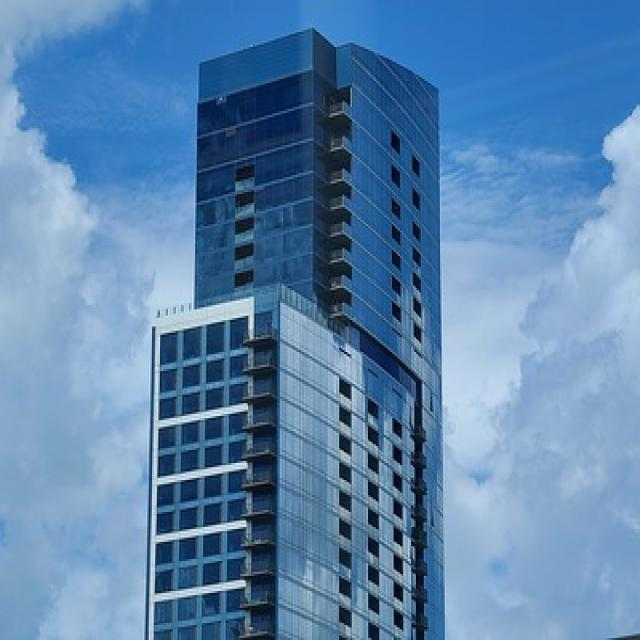Normal_building: (142, 25, 447, 640)
